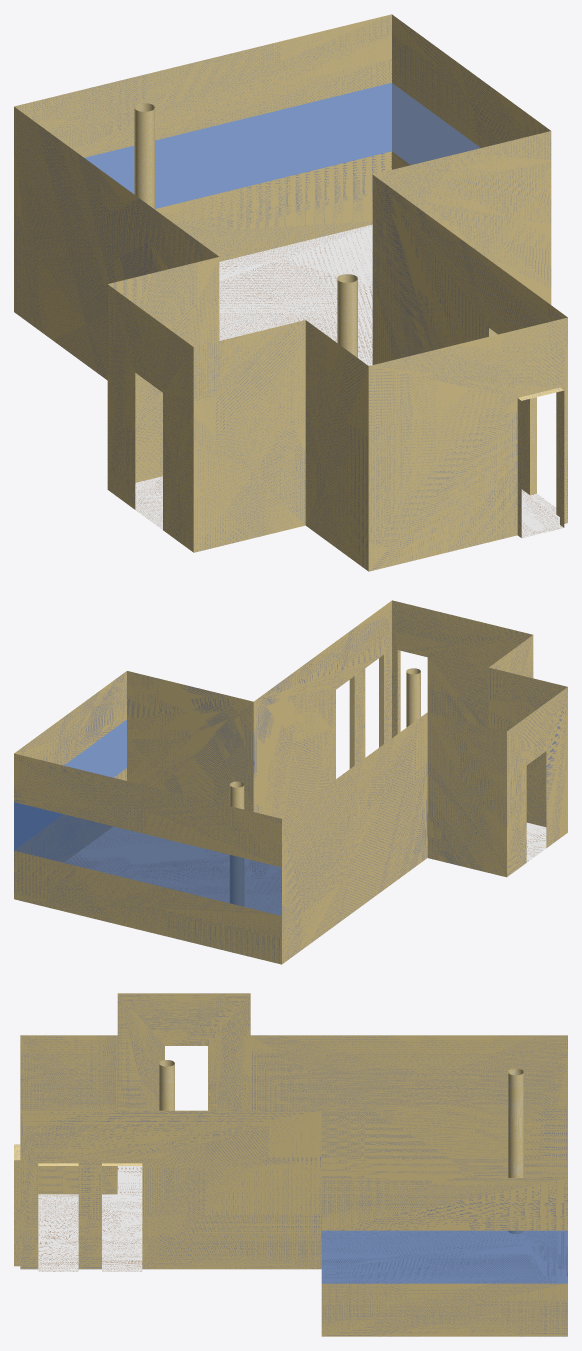
The model's file is LAB011.obj.
3 renders of one model, top to bottom at view 1: azimuth 30°, elevation 25°; view 2: azimuth 150°, elevation 25°; view 3: azimuth 270°, elevation 25°, orthographic. The views are drawn at different scales.
Visible parts, largest first — view 1: Mesh1 LAB011 Model; view 2: Mesh1 LAB011 Model; view 3: Mesh1 LAB011 Model.
Part boxes in pixels (bbox=[...]): Mesh1 LAB011 Model: bbox=[14, 14, 567, 571]; Mesh1 LAB011 Model: bbox=[14, 600, 567, 964]; Mesh1 LAB011 Model: bbox=[14, 993, 567, 1336].
Bounding box in the file's own units: 7.47 × 3 × 9.48.
5 materials, 1 textured.
